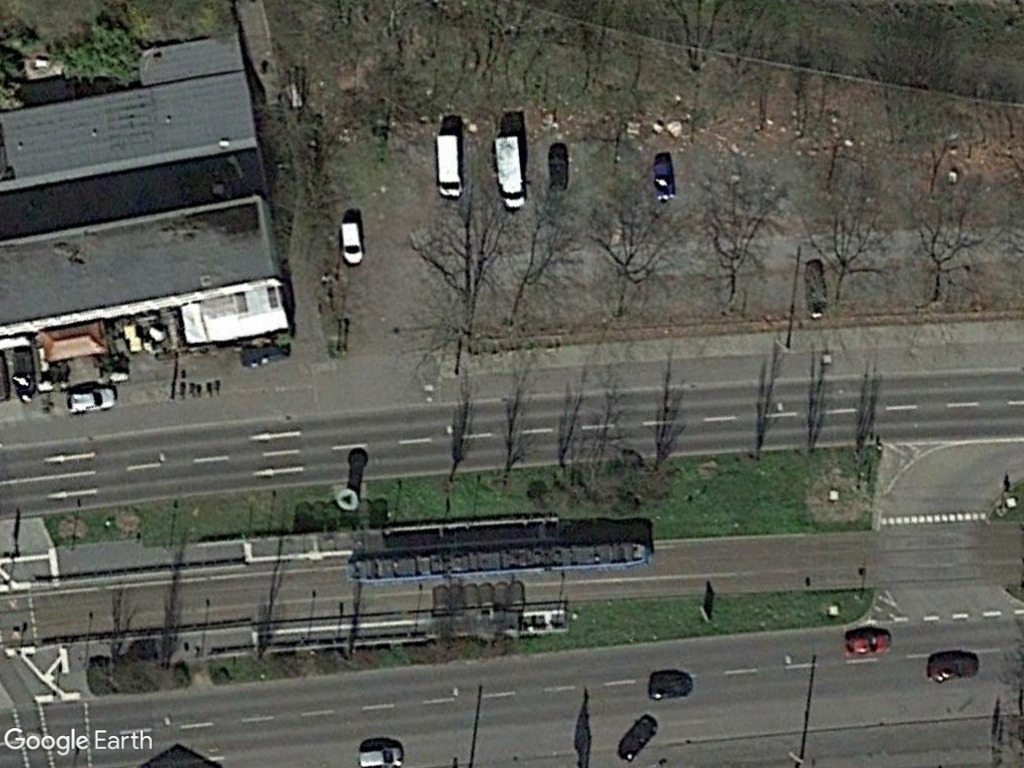car: (62, 383, 119, 417)
truck: (488, 131, 533, 213)
van: (432, 126, 467, 201), (335, 218, 368, 267)
